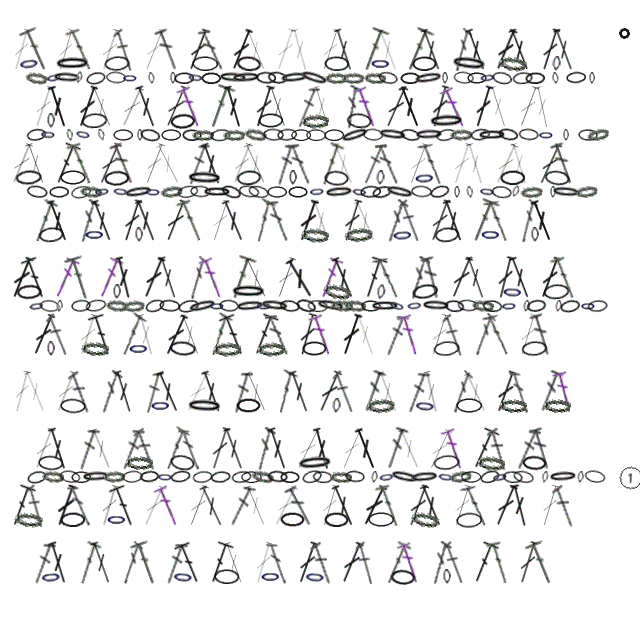chain: (450, 54, 488, 73), (296, 454, 334, 472), (298, 68, 330, 88), (339, 125, 371, 145), (428, 113, 465, 129), (186, 170, 223, 186), (186, 398, 223, 414), (322, 282, 352, 301), (410, 510, 440, 529), (384, 183, 415, 201), (187, 297, 218, 315), (389, 468, 420, 486), (54, 56, 91, 71), (230, 284, 267, 299), (411, 282, 439, 301), (315, 297, 346, 314), (169, 453, 196, 472), (413, 70, 444, 86), (123, 184, 154, 200), (498, 55, 527, 72), (344, 226, 373, 243), (366, 397, 395, 414), (14, 511, 43, 528), (544, 169, 570, 187), (279, 70, 310, 85), (377, 127, 408, 142), (259, 298, 290, 313), (81, 112, 108, 129), (15, 169, 42, 186), (543, 283, 570, 300), (169, 340, 196, 357), (433, 340, 460, 357), (521, 340, 548, 357), (433, 454, 460, 471), (301, 113, 329, 129), (301, 227, 329, 243), (213, 341, 241, 357), (257, 341, 285, 357), (477, 455, 505, 471), (104, 55, 130, 72), (236, 55, 262, 72), (346, 112, 372, 129), (236, 169, 262, 186), (38, 226, 64, 243), (434, 226, 460, 243), (409, 470, 440, 484), (324, 185, 354, 199), (551, 185, 581, 199), (235, 299, 265, 313), (81, 341, 109, 356), (499, 398, 527, 413), (543, 398, 571, 413), (125, 455, 153, 470), (16, 284, 42, 300), (60, 398, 86, 414), (456, 512, 482, 528), (390, 569, 416, 585), (586, 126, 610, 143), (170, 113, 195, 129), (104, 170, 129, 186), (324, 170, 349, 186), (38, 455, 63, 471), (522, 455, 547, 471), (220, 183, 242, 201), (192, 56, 218, 71), (52, 71, 82, 84), (218, 71, 248, 84), (231, 71, 261, 84), (414, 128, 444, 141), (60, 170, 86, 185), (421, 299, 451, 312), (456, 398, 482, 413), (81, 470, 111, 483), (548, 470, 578, 483), (368, 512, 394, 527), (324, 56, 349, 71), (412, 56, 437, 71), (258, 113, 283, 128), (500, 170, 525, 185), (302, 341, 327, 356), (236, 398, 261, 413), (60, 512, 85, 527), (280, 512, 305, 527), (324, 512, 349, 527), (214, 569, 239, 584), (18, 55, 40, 72), (429, 183, 451, 200), (144, 297, 166, 314), (295, 297, 317, 314), (301, 468, 323, 485), (479, 468, 501, 485), (247, 184, 270, 200), (177, 298, 200, 314), (512, 469, 535, 485), (477, 129, 507, 141), (202, 186, 232, 198), (370, 300, 400, 312), (85, 70, 107, 86), (377, 70, 399, 86), (491, 70, 513, 86), (139, 127, 161, 143), (399, 127, 421, 143), (435, 127, 457, 143), (70, 184, 92, 200), (371, 184, 393, 200), (559, 298, 581, 314), (414, 398, 436, 414), (26, 469, 48, 485), (40, 569, 62, 585), (172, 569, 194, 585), (304, 569, 326, 585), (244, 127, 267, 142), (160, 184, 183, 199), (575, 184, 598, 199), (251, 469, 274, 484), (449, 469, 472, 484), (414, 170, 435, 186), (392, 227, 413, 243), (502, 284, 523, 300), (497, 127, 519, 142), (26, 184, 48, 199), (177, 184, 199, 199), (238, 184, 260, 199), (85, 298, 107, 313), (59, 469, 81, 484), (584, 469, 606, 484), (25, 71, 48, 85), (520, 185, 543, 199), (122, 299, 145, 313), (370, 56, 391, 71), (267, 70, 288, 85), (26, 127, 47, 142), (470, 127, 491, 142), (84, 227, 105, 242), (480, 227, 501, 242), (526, 298, 547, 313), (128, 341, 149, 356), (150, 398, 171, 413), (170, 469, 191, 484), (106, 512, 127, 527), (260, 569, 281, 584), (512, 71, 533, 85), (210, 128, 231, 142), (491, 185, 512, 199), (39, 299, 60, 313), (279, 299, 300, 313), (307, 299, 328, 313), (444, 299, 465, 313), (482, 299, 503, 313), (587, 299, 608, 313), (192, 470, 213, 484), (210, 470, 231, 484), (231, 470, 252, 484), (312, 470, 333, 484), (502, 470, 523, 484), (388, 298, 406, 314), (450, 128, 472, 141), (80, 185, 102, 198), (106, 299, 128, 312), (331, 299, 353, 312), (344, 299, 366, 312), (457, 299, 479, 312), (472, 299, 494, 312), (42, 470, 64, 483), (103, 470, 125, 483), (453, 71, 474, 84), (263, 128, 284, 141), (518, 128, 539, 141), (190, 185, 211, 198), (360, 185, 381, 198), (411, 185, 432, 198), (159, 299, 180, 312), (122, 470, 143, 483), (139, 470, 160, 483), (267, 470, 288, 483), (45, 70, 63, 85), (74, 127, 92, 142), (325, 72, 347, 84), (342, 72, 364, 84), (364, 72, 386, 84), (192, 129, 214, 141), (223, 129, 245, 141), (330, 471, 352, 483), (106, 71, 126, 84), (256, 71, 276, 84), (566, 71, 586, 84), (277, 128, 297, 141), (363, 128, 383, 141), (71, 299, 91, 312), (219, 299, 239, 312), (345, 470, 365, 483), (241, 471, 262, 483), (491, 470, 509, 484), (174, 72, 194, 84), (201, 72, 221, 84), (400, 72, 420, 84), (467, 72, 487, 84), (525, 72, 545, 84), (113, 129, 133, 141), (161, 129, 181, 141), (182, 129, 202, 141), (291, 129, 311, 141), (306, 129, 326, 141), (324, 129, 344, 141), (578, 129, 598, 141), (49, 186, 69, 198), (267, 186, 287, 198), (288, 186, 308, 198), (361, 300, 381, 312), (71, 471, 91, 483), (280, 471, 300, 483), (461, 471, 481, 483), (351, 185, 368, 199), (28, 299, 45, 313), (378, 470, 395, 484), (437, 470, 454, 484), (187, 71, 204, 84), (479, 71, 496, 84), (112, 185, 129, 198), (406, 299, 423, 312), (40, 128, 56, 141), (94, 185, 110, 198), (309, 185, 325, 198), (479, 185, 495, 198), (122, 72, 138, 84), (538, 129, 554, 141), (145, 186, 161, 198), (209, 300, 225, 312), (256, 300, 272, 312), (501, 300, 517, 312), (580, 300, 596, 312), (157, 471, 173, 483), (376, 284, 386, 300), (552, 56, 561, 71), (376, 170, 385, 185), (332, 398, 341, 413), (47, 113, 55, 128), (289, 170, 297, 185), (135, 227, 143, 242), (531, 227, 539, 242), (113, 284, 121, 299), (47, 341, 55, 356), (443, 569, 451, 584), (97, 128, 106, 141), (511, 185, 520, 198), (75, 71, 83, 84), (66, 129, 74, 141), (466, 186, 474, 198), (541, 471, 549, 483), (148, 72, 155, 84), (552, 72, 559, 84), (56, 300, 63, 312), (523, 300, 530, 312), (555, 300, 562, 312), (371, 471, 378, 483), (577, 471, 584, 483), (170, 72, 176, 84), (442, 72, 448, 84), (589, 72, 595, 84), (137, 129, 143, 141), (563, 129, 569, 141), (454, 186, 460, 198), (550, 186, 556, 198)
double: (19, 26, 53, 73), (401, 27, 435, 73), (467, 426, 501, 472), (467, 198, 500, 244), (173, 540, 206, 586), (525, 540, 558, 586), (283, 256, 317, 300), (358, 27, 390, 73), (204, 84, 236, 130), (50, 141, 82, 187), (218, 312, 250, 358), (248, 312, 280, 358), (108, 483, 140, 529), (130, 540, 162, 586), (468, 540, 500, 586), (116, 312, 148, 357), (358, 483, 390, 528), (380, 540, 412, 585), (20, 255, 51, 301), (64, 255, 95, 301), (226, 255, 257, 301), (6, 483, 37, 529), (204, 540, 235, 586), (152, 142, 184, 186), (284, 484, 316, 528), (64, 27, 95, 72), (240, 141, 271, 186), (28, 198, 59, 243), (372, 255, 403, 300), (482, 312, 513, 357), (314, 369, 345, 414), (160, 426, 191, 471), (460, 483, 491, 528), (359, 255, 389, 301), (87, 312, 117, 358), (182, 370, 213, 414), (292, 427, 323, 471), (424, 427, 455, 471), (270, 484, 301, 528), (161, 84, 191, 129), (65, 141, 95, 186), (315, 141, 345, 186), (175, 198, 205, 243), (153, 369, 183, 414), (241, 369, 271, 414), (117, 85, 147, 129), (381, 85, 411, 129), (439, 85, 469, 129), (491, 142, 521, 186), (535, 142, 565, 186), (241, 256, 271, 300), (161, 313, 191, 357), (461, 370, 491, 414), (139, 484, 169, 528), (197, 484, 227, 528), (227, 27, 256, 72), (241, 27, 270, 72), (491, 27, 520, 72), (505, 27, 534, 72), (87, 84, 116, 129), (7, 141, 36, 186), (95, 141, 124, 186), (109, 141, 138, 186), (329, 141, 358, 186), (417, 141, 446, 186), (161, 198, 190, 243), (219, 198, 248, 243), (351, 198, 380, 243), (483, 198, 512, 243), (7, 255, 36, 300), (51, 255, 80, 300), (95, 255, 124, 300), (139, 255, 168, 300), (329, 255, 358, 300), (447, 255, 476, 300), (549, 255, 578, 300), (29, 312, 58, 357), (205, 312, 234, 357), (21, 369, 50, 414), (87, 426, 116, 471), (337, 426, 366, 471), (395, 426, 424, 471), (153, 483, 182, 528), (241, 483, 270, 528), (329, 483, 358, 528), (417, 483, 446, 528), (491, 483, 520, 528), (73, 540, 102, 585), (337, 540, 366, 585), (140, 27, 168, 72), (154, 27, 182, 72), (184, 27, 212, 72), (374, 27, 402, 72), (462, 27, 490, 72), (550, 27, 578, 72), (132, 84, 160, 129), (176, 84, 204, 129), (264, 84, 292, 129), (352, 84, 380, 129), (396, 84, 424, 129), (514, 84, 542, 129), (140, 141, 168, 186), (228, 141, 256, 186), (404, 141, 432, 186), (44, 198, 72, 243), (88, 198, 116, 243), (132, 198, 160, 243), (294, 198, 322, 243), (426, 198, 454, 243), (528, 198, 556, 243), (198, 255, 226, 300), (316, 255, 344, 300), (506, 255, 534, 300), (536, 255, 564, 300), (176, 312, 204, 357), (52, 369, 80, 414), (374, 369, 402, 414), (536, 369, 564, 414), (30, 426, 58, 471), (220, 426, 248, 471), (352, 426, 380, 471), (52, 483, 80, 528), (184, 483, 212, 528), (374, 483, 402, 528), (404, 483, 432, 528), (227, 484, 256, 527), (272, 27, 299, 72), (418, 27, 445, 72), (30, 84, 57, 129), (74, 84, 101, 129), (22, 141, 49, 186), (198, 141, 225, 186), (550, 141, 577, 186), (250, 198, 277, 243), (308, 198, 335, 243), (440, 198, 467, 243), (272, 255, 299, 300), (462, 255, 489, 300), (308, 312, 335, 357), (338, 312, 365, 357), (352, 312, 379, 357), (426, 312, 453, 357), (198, 369, 225, 414), (272, 369, 299, 414), (286, 369, 313, 414), (360, 369, 387, 414), (492, 369, 519, 414), (264, 426, 291, 471), (440, 426, 467, 471), (88, 540, 115, 585), (220, 540, 247, 585), (294, 540, 321, 585), (396, 540, 423, 585), (198, 28, 225, 72), (382, 199, 409, 243), (96, 370, 123, 414), (132, 427, 159, 471), (514, 427, 541, 471), (97, 27, 123, 72), (317, 27, 343, 72), (331, 27, 357, 72), (537, 27, 563, 72), (45, 84, 71, 129), (251, 84, 277, 129), (485, 84, 511, 129), (449, 141, 475, 186), (119, 198, 145, 243), (207, 198, 233, 243), (339, 198, 365, 243), (155, 255, 181, 300), (75, 312, 101, 357), (529, 312, 555, 357), (45, 426, 71, 471), (207, 426, 233, 471), (383, 426, 409, 471), (449, 483, 475, 528), (537, 483, 563, 528), (45, 540, 71, 585), (485, 540, 511, 585), (515, 540, 541, 585), (44, 313, 71, 356), (405, 256, 431, 300), (383, 313, 409, 357), (67, 370, 93, 414), (119, 427, 145, 471), (551, 484, 577, 528), (309, 541, 335, 585), (9, 27, 34, 72), (53, 27, 78, 72), (221, 84, 246, 129), (309, 84, 334, 129), (471, 84, 496, 129), (463, 141, 488, 186), (507, 141, 532, 186), (295, 312, 320, 357), (397, 312, 422, 357), (515, 312, 540, 357), (111, 369, 136, 414), (529, 426, 554, 471), (97, 483, 122, 528), (317, 483, 342, 528), (251, 540, 276, 585), (361, 142, 387, 185), (397, 199, 423, 242), (471, 313, 497, 356), (331, 370, 357, 413), (67, 484, 93, 527), (441, 541, 467, 584), (295, 85, 320, 129), (287, 142, 312, 186), (375, 142, 400, 186), (75, 199, 100, 243), (265, 313, 290, 357), (441, 313, 466, 357), (405, 370, 430, 414), (449, 370, 474, 414), (31, 541, 56, 585), (119, 541, 144, 585), (163, 541, 188, 585), (427, 541, 452, 585), (288, 27, 312, 72), (428, 84, 452, 129), (420, 255, 444, 300), (134, 312, 158, 357), (10, 369, 34, 414), (552, 369, 576, 414), (310, 426, 334, 471), (112, 28, 136, 72), (186, 142, 210, 186), (266, 199, 290, 243), (76, 427, 100, 471), (178, 427, 202, 471), (252, 427, 276, 471), (486, 427, 510, 471), (112, 255, 135, 300), (494, 255, 517, 300), (420, 369, 443, 414), (508, 483, 531, 528), (274, 142, 297, 186), (186, 256, 209, 300), (24, 484, 47, 528), (266, 541, 289, 585), (354, 541, 377, 585), (451, 28, 473, 72), (531, 85, 553, 129), (517, 199, 539, 243), (231, 370, 253, 414), (509, 370, 531, 414), (341, 85, 362, 129), (143, 370, 164, 414)
noise: (617, 464, 640, 491), (618, 27, 631, 40)
